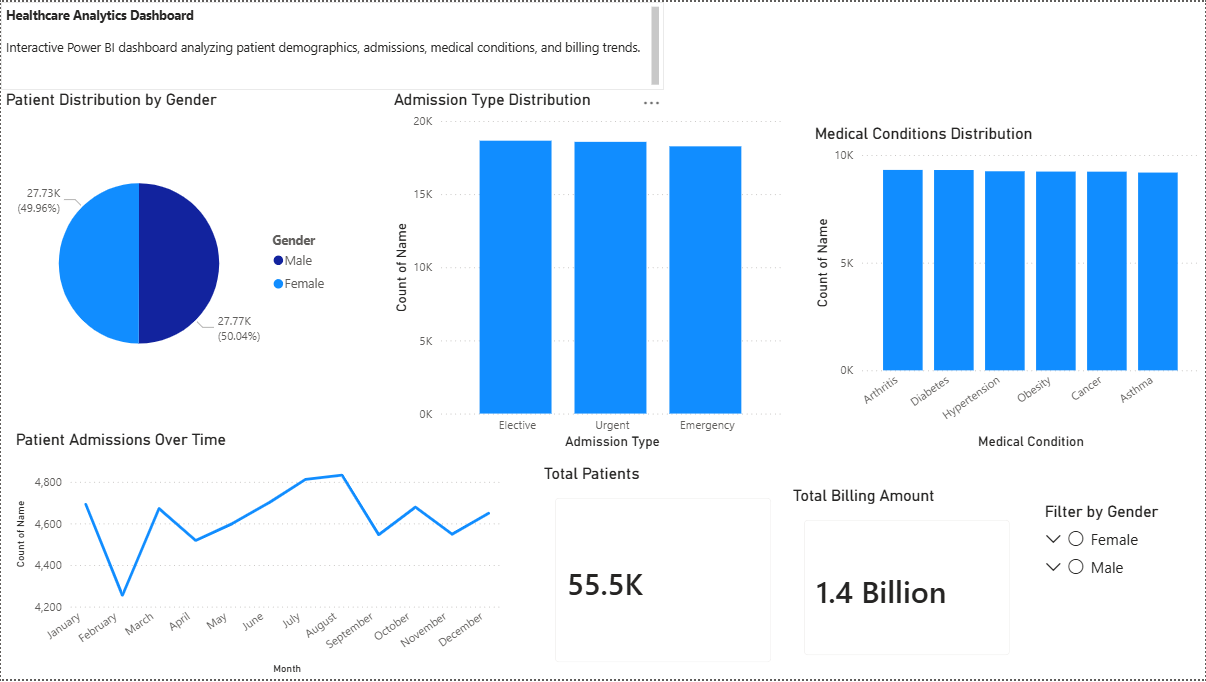

The dashboard page shown, as its layout file describes it:
{"tool":"powerbi","page":{"name":"Page 1","canvas":[1280,720],"ordinal":0},"visuals":[{"type":"pieChart","title":"Patient Distribution by Gender","fields":{"Category":["healthcare_dataset.Gender"],"Y":["CountNonNull(healthcare_dataset.Name)"]},"box":[0,93.6,359.6,350],"z":0},{"type":"columnChart","title":"Medical Conditions Distribution","fields":{"Category":["healthcare_dataset.Medical Condition"],"Y":["CountNonNull(healthcare_dataset.Name)"]},"box":[860.6,129.8,419.1,351.1],"z":1000},{"type":"columnChart","title":" Admission Type Distribution","fields":{"Category":["healthcare_dataset.Admission Type"],"Y":["CountNonNull(healthcare_dataset.Name)"]},"box":[412.8,93.6,424.5,387.2],"z":2000},{"type":"listSlicer","title":"Filter by Gender","fields":{"Values":["healthcare_dataset.Gender","healthcare_dataset.Gender"]},"box":[1105.3,531.9,174.5,188.3],"z":3000},{"type":"lineChart","title":"Patient Admissions Over Time","fields":{"Category":["healthcare_dataset.Date of Admission.Variation.Date Hierarchy.Month"],"Y":["CountNonNull(healthcare_dataset.Name)"]},"box":[10.6,455.3,528.7,264.9],"z":4000},{"type":"cardVisual","title":"Total Patients","fields":{"Data":["CountNonNull(healthcare_dataset.Name)"]},"box":[572.3,491.5,264.9,228.7],"z":5000},{"type":"cardVisual","title":"Total Billing Amount","fields":{"Data":["healthcare_dataset.Total Billing"]},"box":[837.2,514.9,253.2,197.9],"z":6000},{"type":"textbox","box":[0,0,705.3,93.6],"z":7000}]}

Visuals, with their boxes in screenshot pixels (x1, y1, x2, y2), scaled from the page's 1280x720 canvas onto the 1206x682 screenshot:
"Patient Distribution by Gender" pieChart: 0:89:339:420
"Medical Conditions Distribution" columnChart: 811:123:1205:456
" Admission Type Distribution" columnChart: 389:89:789:455
"Filter by Gender" listSlicer: 1041:504:1205:681
"Patient Admissions Over Time" lineChart: 10:431:508:681
"Total Patients" cardVisual: 539:466:789:681
"Total Billing Amount" cardVisual: 789:488:1027:675
textbox: 0:0:665:89
